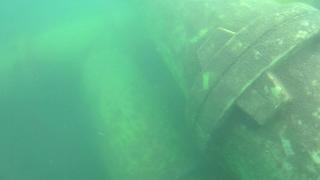pipe: (136, 1, 320, 180), (75, 44, 215, 180), (1, 17, 150, 71)
